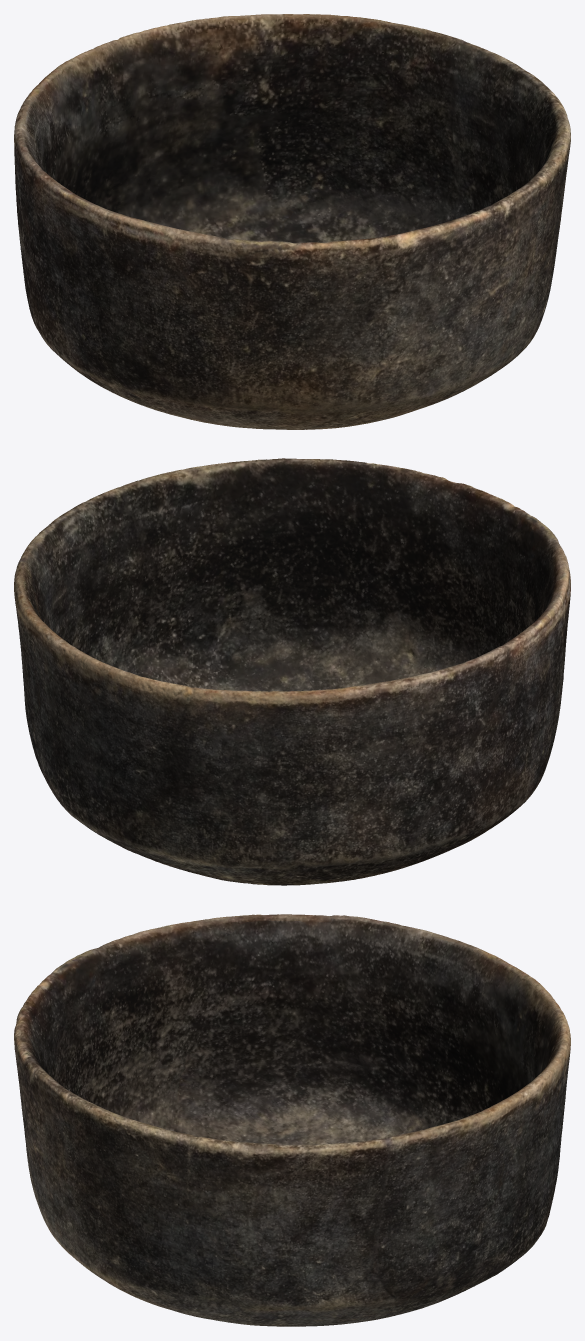
The picture shows the model from 3 angles, top to bottom: view 1: azimuth 30°, elevation 25°; view 2: azimuth 150°, elevation 25°; view 3: azimuth 270°, elevation 25°; orthographic projection.
Visible parts, largest first — view 1: Mesh_0.012; view 2: Mesh_0.012; view 3: Mesh_0.012.
Part boxes in pixels (left/top/right/bottom): Mesh_0.012: left=14, top=14, right=570, bottom=429; Mesh_0.012: left=14, top=458, right=570, bottom=885; Mesh_0.012: left=14, top=914, right=570, bottom=1326.
Bounding box in the file's own units: 0.1687 × 0.0878 × 0.171.
1 material, 1 textured.
